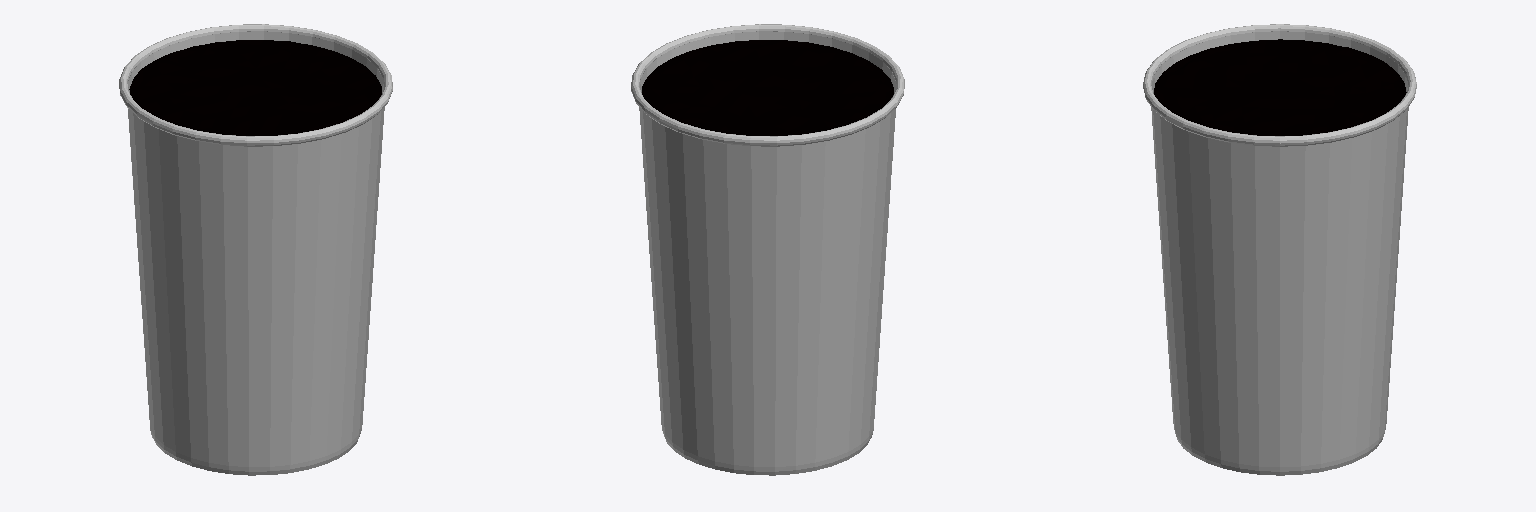
File: Dr_Pepper_Cup.obj
3 views of the same model, side by side, from view 1: azimuth 30°, elevation 25°; view 2: azimuth 150°, elevation 25°; view 3: azimuth 270°, elevation 25° (orthographic).
Parts seen in each view (by area): view 1: Cup_mesh_Cylinder, Cup_Liquid_Cylinder.018; view 2: Cup_mesh_Cylinder, Cup_Liquid_Cylinder.018; view 3: Cup_mesh_Cylinder, Cup_Liquid_Cylinder.018.
Boxes of the visible parts, box(x1,y1,x2,y2) form: Cup_mesh_Cylinder: box(119, 24, 392, 475); Cup_Liquid_Cylinder.018: box(129, 40, 381, 135); Cup_mesh_Cylinder: box(631, 24, 904, 475); Cup_Liquid_Cylinder.018: box(642, 40, 893, 135); Cup_mesh_Cylinder: box(1143, 24, 1416, 475); Cup_Liquid_Cylinder.018: box(1154, 39, 1406, 135).
Bounding box in the file's own units: 0.0754 × 0.1062 × 0.0754.